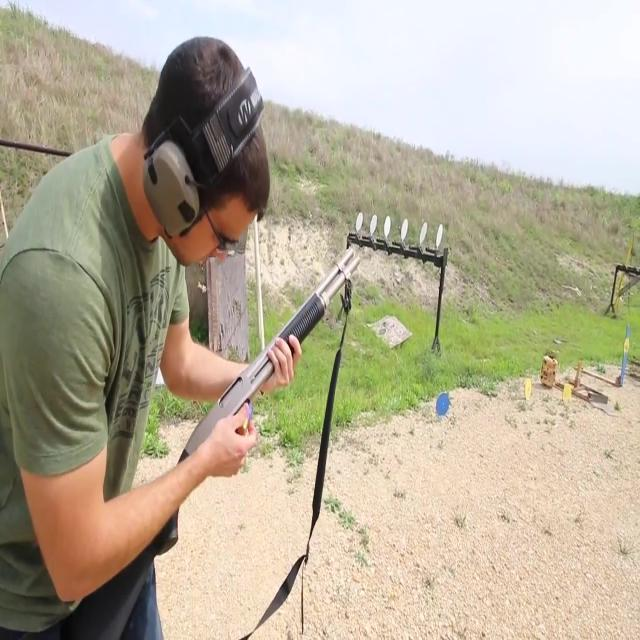Weapon: (41, 234, 376, 640)
